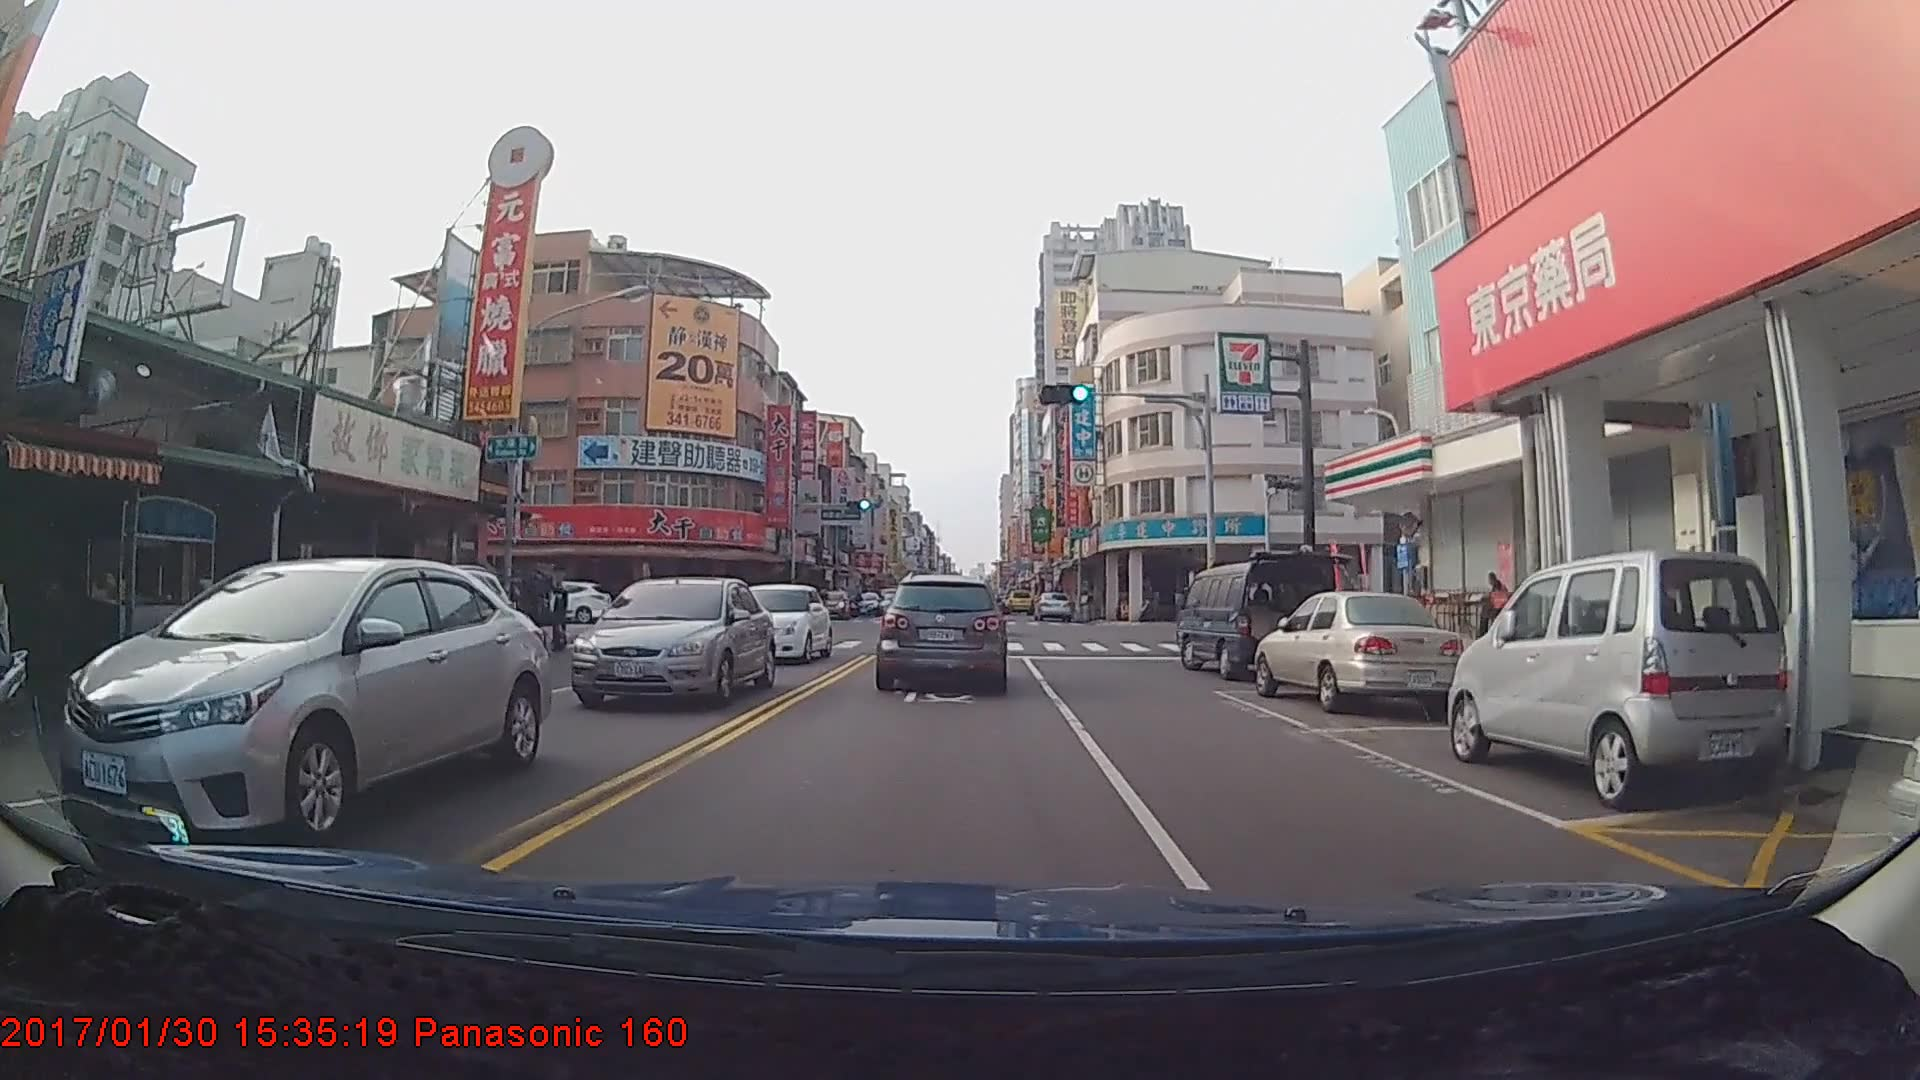vehicle: (57, 562, 547, 847), (1447, 546, 1785, 803), (575, 571, 771, 708), (1255, 589, 1462, 713), (1176, 563, 1329, 676), (878, 570, 1007, 694), (721, 582, 829, 665), (1034, 589, 1073, 622), (811, 587, 847, 620), (848, 593, 882, 616), (1005, 589, 1033, 612)
